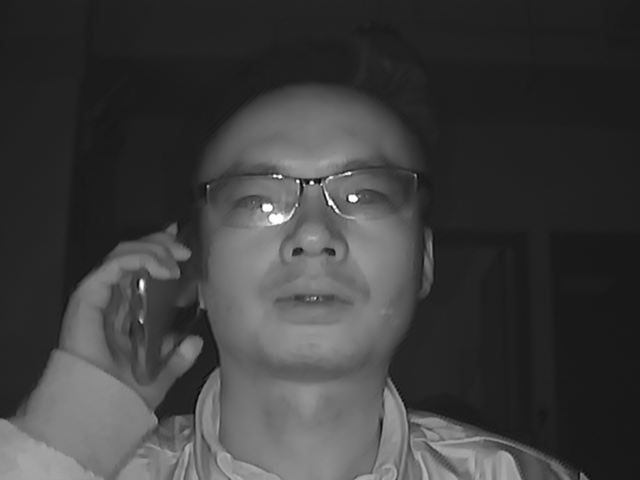hand: (59, 224, 194, 399)
